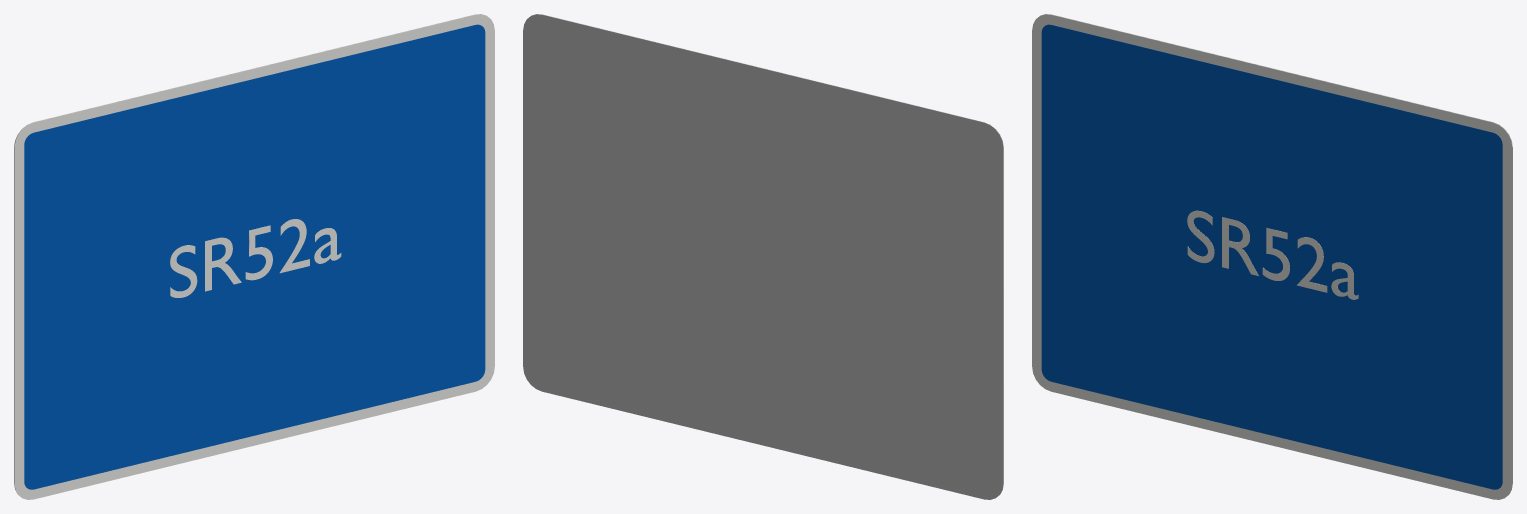
3 views of the same model, side by side, from view 1: azimuth 30°, elevation 25°; view 2: azimuth 150°, elevation 25°; view 3: azimuth 330°, elevation 25° (orthographic).
Parts seen in each view (by area): view 1: SR52a_fond01, SR52a_cadre00, SR52a_txt02, SR52a_dos; view 2: SR52a_dos; view 3: SR52a_fond01, SR52a_cadre00, SR52a_txt02, SR52a_dos.
Part boxes in pixels (x1,y1,x2,y2): SR52a_fond01: (24, 24, 485, 489); SR52a_cadre00: (14, 14, 494, 499); SR52a_txt02: (170, 219, 341, 297); SR52a_dos: (14, 14, 483, 493); SR52a_dos: (523, 14, 1003, 499); SR52a_fond01: (1041, 24, 1502, 489); SR52a_cadre00: (1032, 14, 1512, 499); SR52a_txt02: (1187, 210, 1358, 299); SR52a_dos: (1043, 14, 1512, 493).
Size of the model in its own units: 1 by 0.75 by 0.0025.
